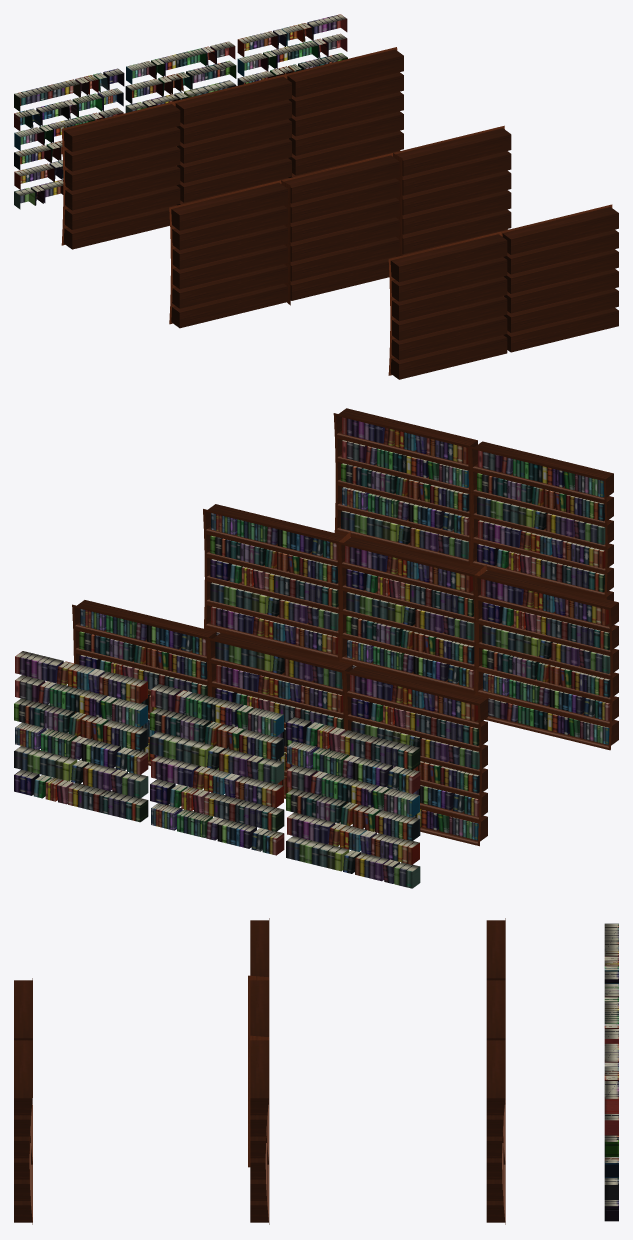
The model's file is IceMaze_WallBookshelves_All.FBX.
3 views of the same model, one above another, from view 1: azimuth 30°, elevation 25°; view 2: azimuth 150°, elevation 25°; view 3: azimuth 270°, elevation 25° (orthographic). The views are drawn at different scales.
Visible parts, largest first — view 1: WallShelf_3, WallShelf_2, WallShelf_1, ShelfBooks_3b, WallShelf_0; view 2: ShelfBooks_3b, ShelfBooks_1, ShelfBooks_2, ShelfBooks_3a, WallShelf_1, WallShelf_2, WallShelf_3, ShelfBooks_0, WallShelf_0; view 3: WallShelf_3, WallShelf_1, WallShelf_2, ShelfBooks_3b, WallShelf_0.
Part boxes in pixels (x1,y1,x2,y2): WallShelf_3: (61, 47, 403, 249); WallShelf_2: (388, 204, 618, 379); WallShelf_1: (169, 125, 511, 328); ShelfBooks_3b: (14, 14, 347, 209); WallShelf_0: (281, 153, 402, 300); ShelfBooks_3b: (14, 651, 420, 888); ShelfBooks_1: (210, 513, 610, 744); ShelfBooks_2: (341, 417, 605, 592); ShelfBooks_3a: (79, 609, 479, 840); WallShelf_1: (203, 504, 618, 750); WallShelf_2: (333, 408, 613, 600); WallShelf_3: (72, 600, 487, 846); ShelfBooks_0: (345, 545, 474, 687); WallShelf_0: (339, 531, 480, 694); WallShelf_3: (486, 918, 505, 1224); WallShelf_1: (248, 918, 269, 1224); WallShelf_2: (14, 978, 32, 1224); ShelfBooks_3b: (604, 923, 618, 1221); WallShelf_0: (248, 975, 269, 1167).
Size of the model in its own units: 18 by 6.17 by 25.6.
